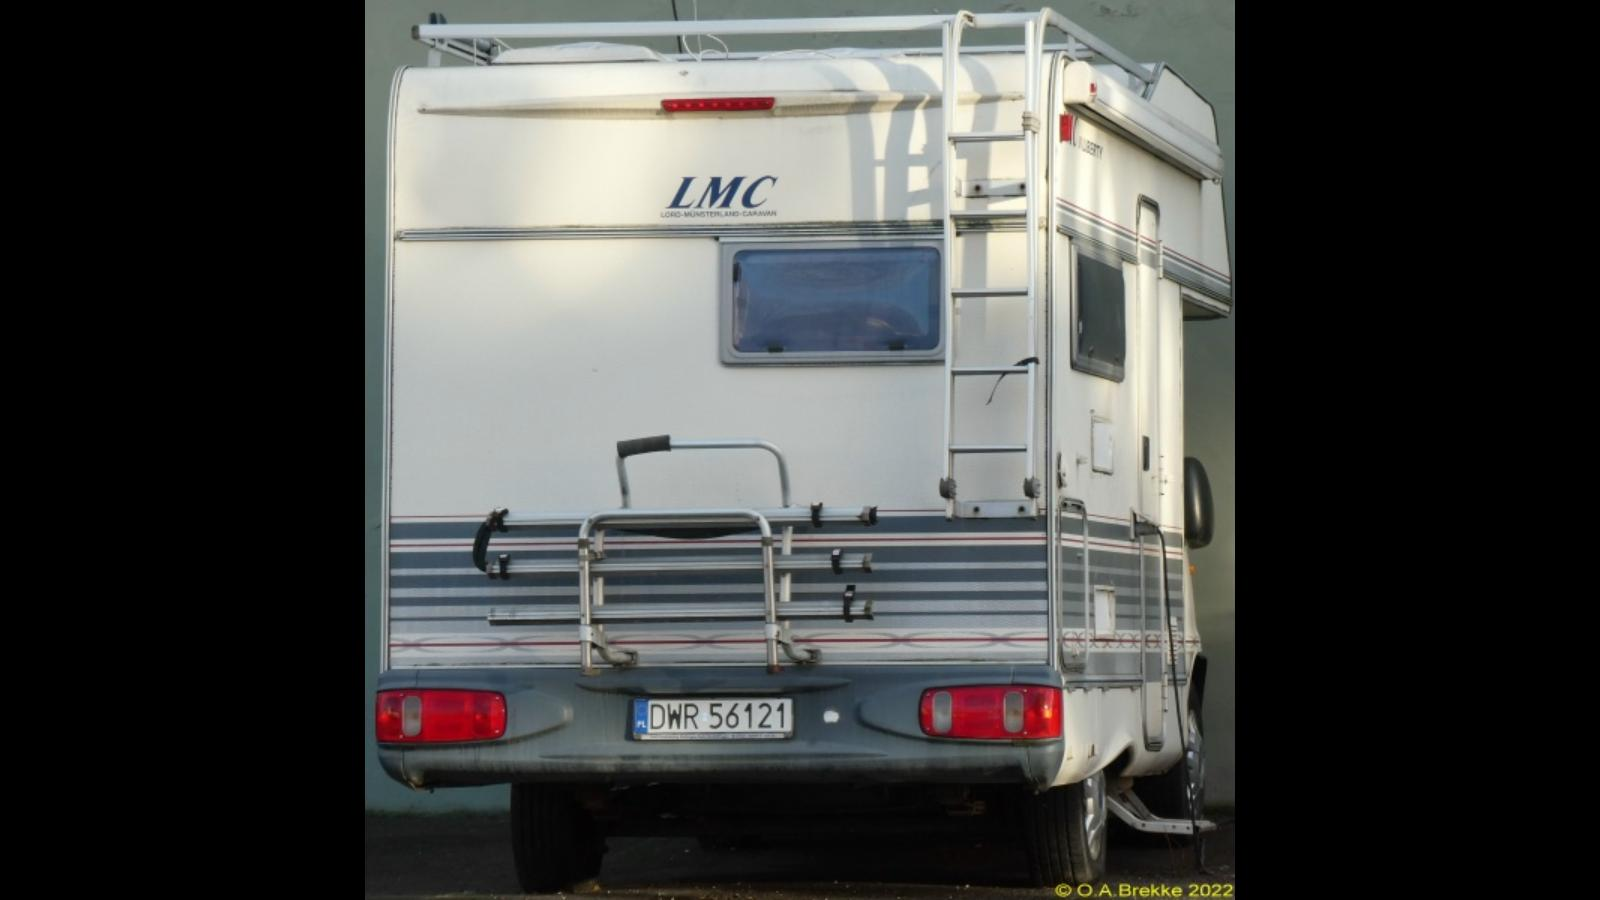plates: (632, 696, 796, 740)
